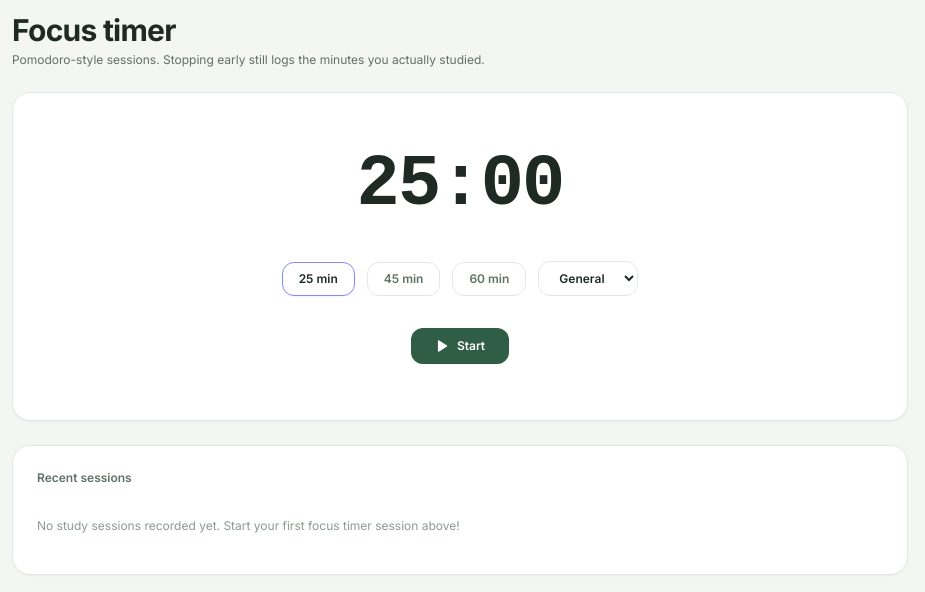
Scenario: FocusTimer Component › toggles Start to Pause on click
Click the button "Start".
click(460, 346)  # box x1=411 y1=328 x2=509 y2=364
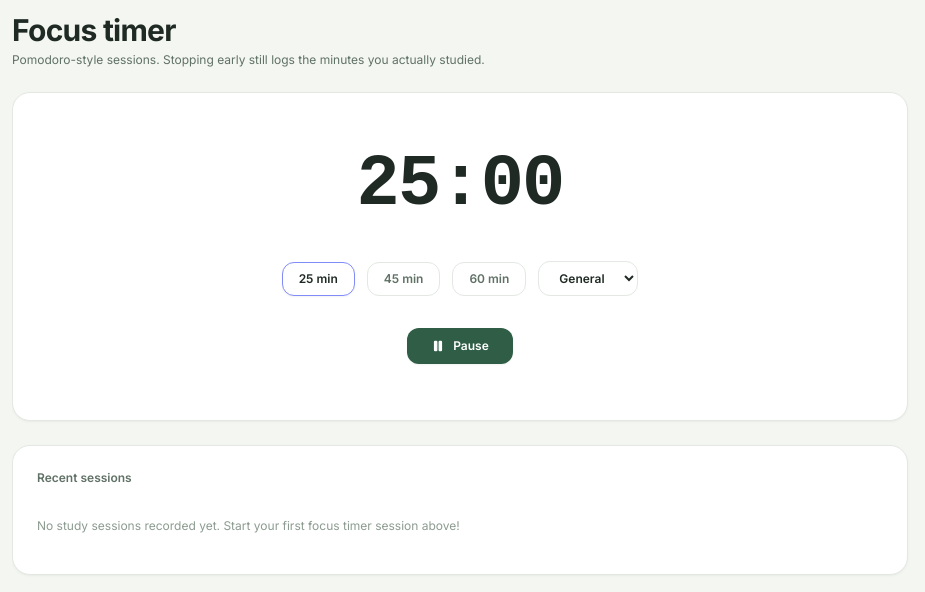
Expected: the text "Pause" is shown, x1=453 y1=338 x2=489 y2=354
